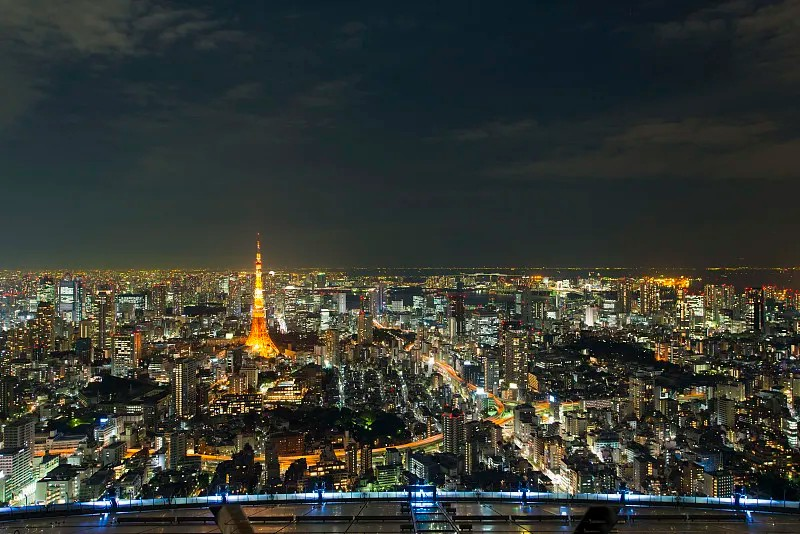Tokyo: (243, 229, 281, 360)
